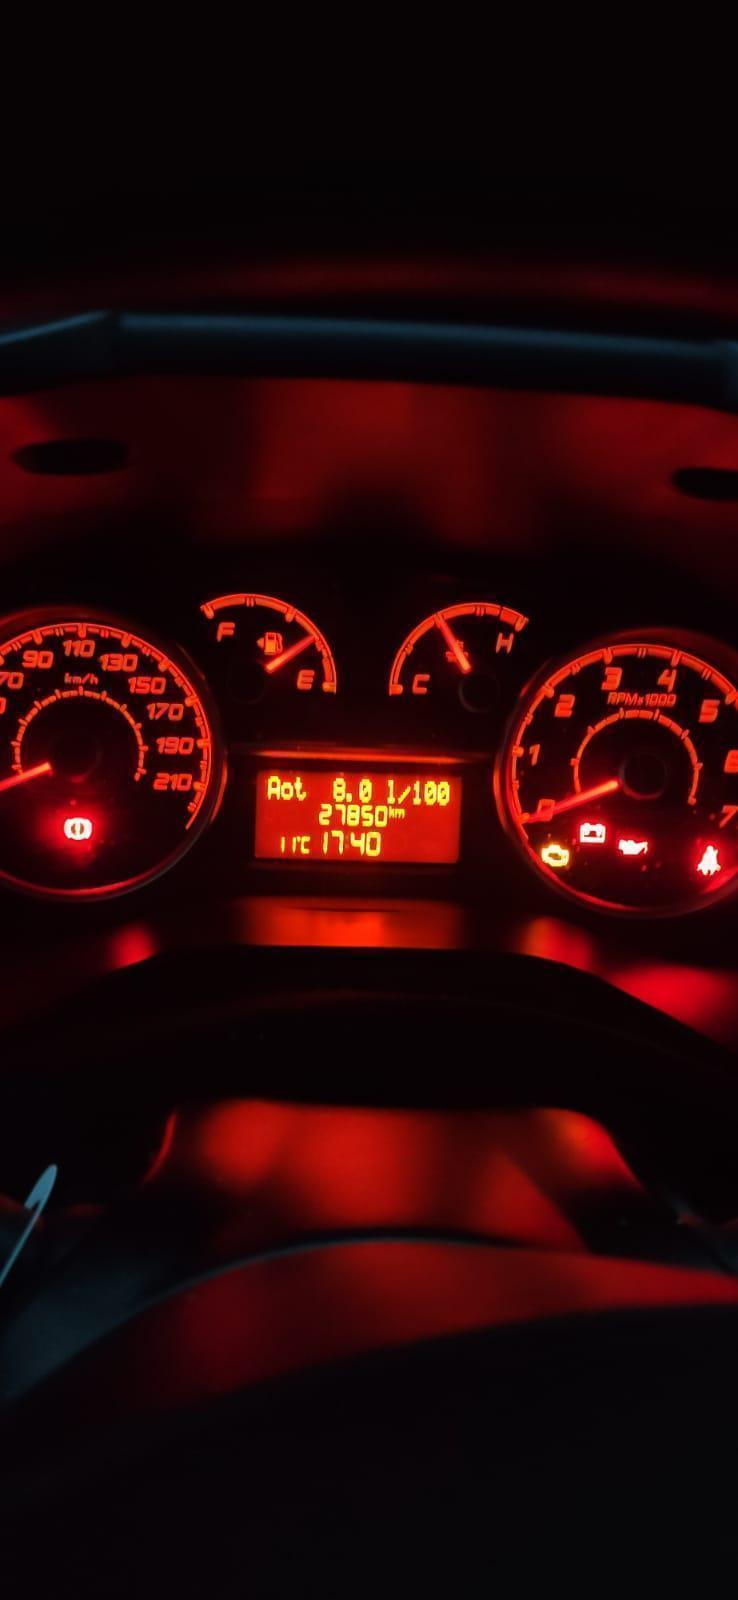,: (345, 791, 353, 803)
0: (365, 830, 380, 858), (357, 777, 373, 803), (436, 779, 450, 806), (373, 803, 388, 828), (423, 779, 436, 806)
1: (411, 777, 422, 807), (319, 829, 328, 855), (277, 834, 286, 854), (288, 834, 296, 853)
2: (318, 803, 332, 826)
4: (349, 829, 365, 856)
5: (360, 804, 373, 828)
7: (329, 828, 345, 855), (332, 803, 346, 826)
8: (331, 776, 345, 803), (346, 803, 359, 827)
X: (384, 776, 397, 805), (265, 774, 281, 800), (293, 776, 307, 802), (280, 780, 294, 801), (397, 785, 410, 805), (300, 833, 311, 855), (395, 807, 406, 818), (388, 804, 394, 818)
odometer: (251, 764, 465, 866)
